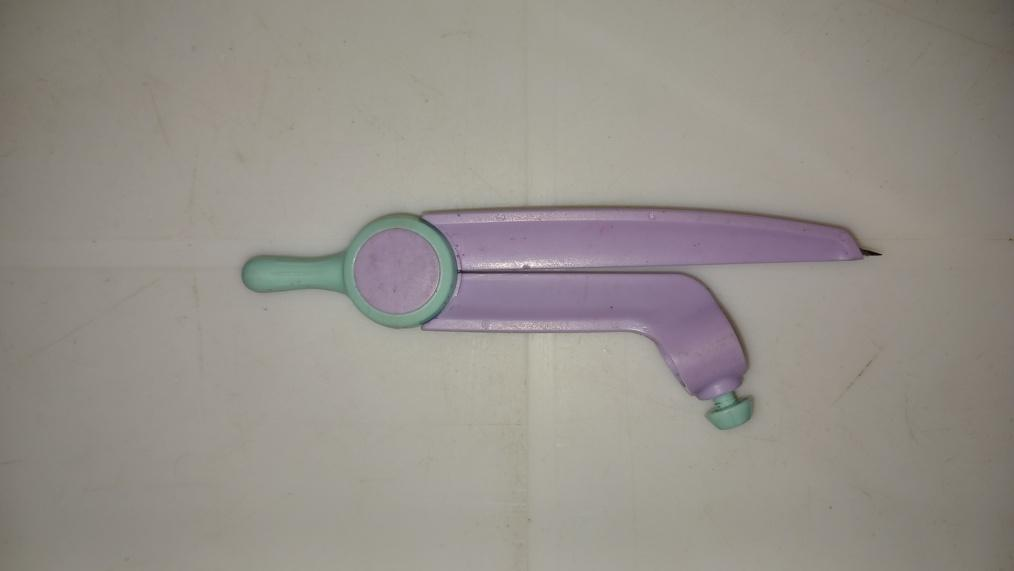Compass: (239, 206, 890, 430)
